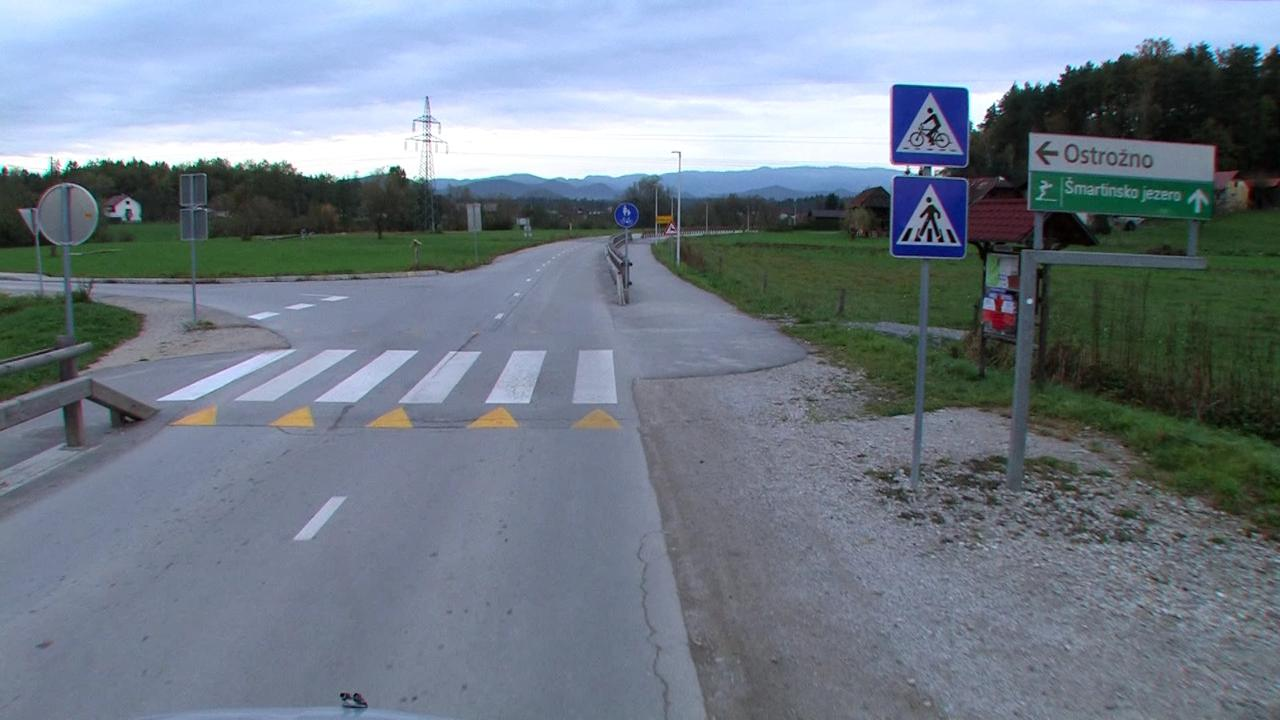Multi-inform: (1026, 129, 1216, 223)
Round: (613, 200, 641, 228)
Squared: (889, 82, 970, 168), (889, 175, 970, 260)
Triangle: (664, 219, 680, 236)
